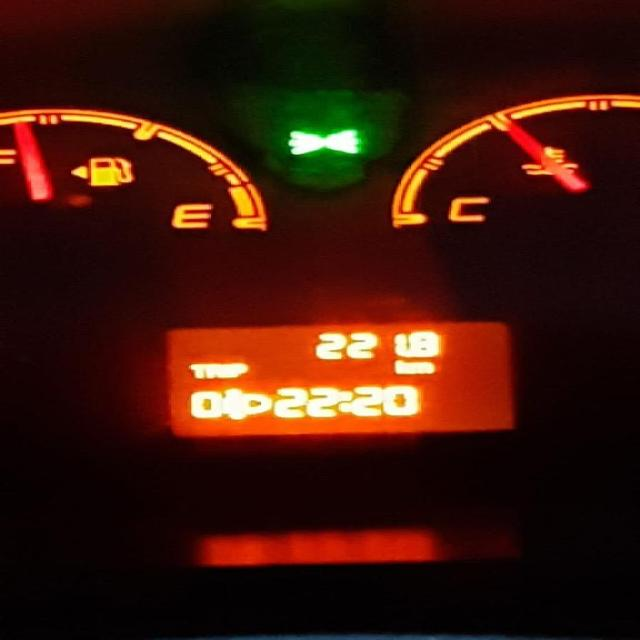odometer: (163, 322, 520, 437)
